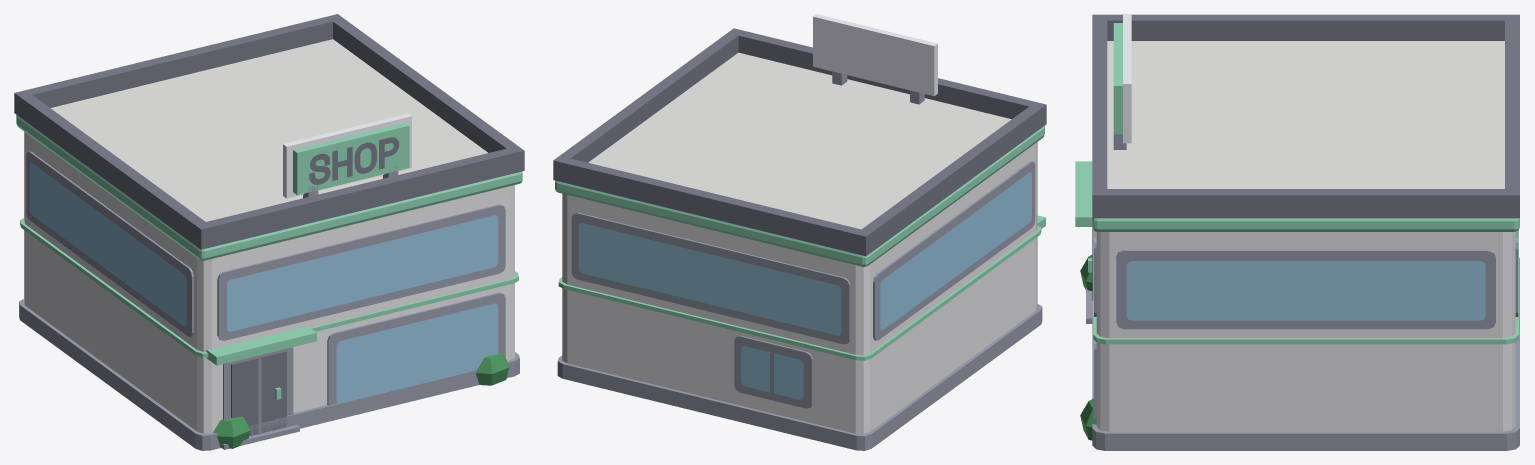
Rendered from shop-general-1x1-t2-tone-a.glb.
3 renders of one model, left to right at view 1: azimuth 30°, elevation 25°; view 2: azimuth 150°, elevation 25°; view 3: azimuth 270°, elevation 25°, orthographic. The views are drawn at different scales.
Visible parts, largest first — view 1: shop-general-1x1-t2-tone-a; view 2: shop-general-1x1-t2-tone-a; view 3: shop-general-1x1-t2-tone-a.
Boxes of the visible parts, left/top/right/bottom form: shop-general-1x1-t2-tone-a: left=14, top=14, right=524, bottom=450; shop-general-1x1-t2-tone-a: left=553, top=14, right=1046, bottom=450; shop-general-1x1-t2-tone-a: left=1075, top=14, right=1519, bottom=450.
Size of the model in its own units: 1 by 0.804 by 1.04.
Materials: 1 (1 with a texture image).
